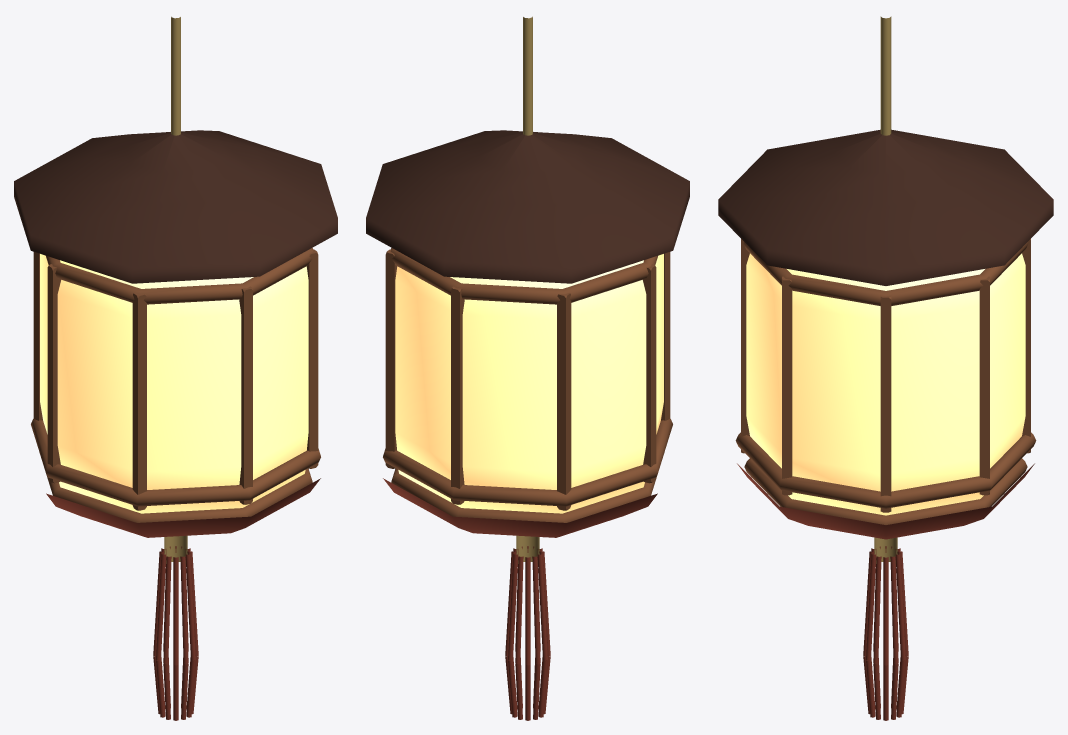
Rendered from paper_lantern.glb.
3 views of the same model, side by side, from view 1: azimuth 30°, elevation 25°; view 2: azimuth 150°, elevation 25°; view 3: azimuth 270°, elevation 25° (orthographic).
Parts seen in each view (by area): view 1: paper_lantern; view 2: paper_lantern; view 3: paper_lantern.
Part boxes in pixels (x1,y1,x2,y2): paper_lantern: (14, 16, 337, 720); paper_lantern: (366, 16, 689, 720); paper_lantern: (718, 16, 1053, 720).
Size of the model in its own units: 0.58 by 1.33 by 0.58.
